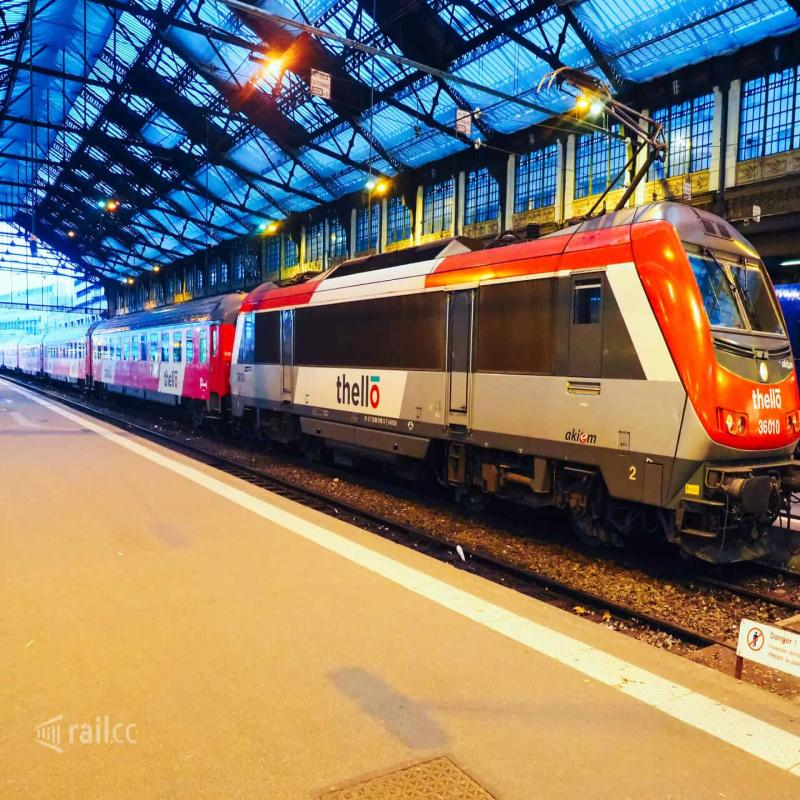train: (5, 190, 773, 476)
